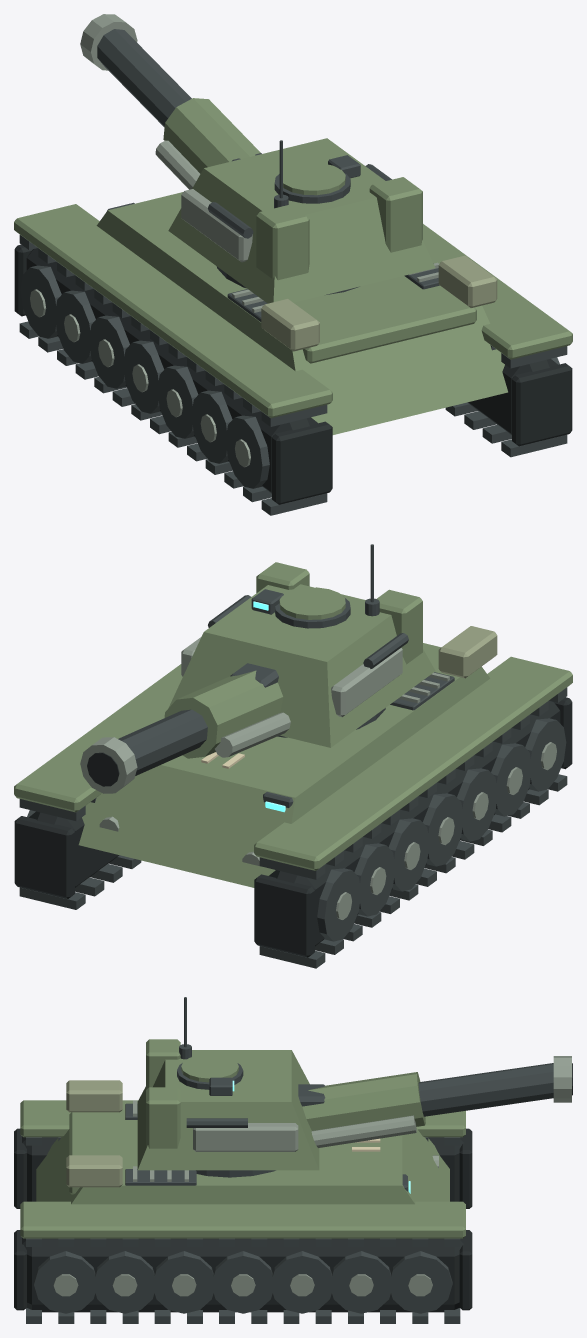
Rendered from tank_arty_mk2.glb.
3 renders of one model, top to bottom at view 1: azimuth 30°, elevation 25°; view 2: azimuth 150°, elevation 25°; view 3: azimuth 270°, elevation 25°, orthographic. The views are drawn at different scales.
Parts seen in each view (by area): view 1: tank_arty_mk2_TankPaint.005, tank_arty_mk2_TankPaint.006, tank_arty_mk2_RunningGear.005, tank_arty_mk2_TankTracks.005, tank_arty_mk2_RunningGear.006, tank_arty_mk2_ArmorEdges.006, tank_arty_mk2_Canvas.004, tank_arty_mk2_ArmorEdges.005; view 2: tank_arty_mk2_TankPaint.005, tank_arty_mk2_TankPaint.006, tank_arty_mk2_RunningGear.005, tank_arty_mk2_TankTracks.005, tank_arty_mk2_RunningGear.006, tank_arty_mk2_ArmorEdges.006, tank_arty_mk2_ArmorEdges.005, tank_arty_mk2_Canvas.004, tank_arty_mk2_TankTracks.006; view 3: tank_arty_mk2_TankPaint.005, tank_arty_mk2_RunningGear.005, tank_arty_mk2_TankPaint.006, tank_arty_mk2_TankTracks.005, tank_arty_mk2_RunningGear.006, tank_arty_mk2_ArmorEdges.006, tank_arty_mk2_Canvas.004, tank_arty_mk2_ArmorEdges.005.
Boxes of the visible parts, bbox=[...] form: tank_arty_mk2_TankPaint.005: bbox=[14, 192, 572, 434]; tank_arty_mk2_TankPaint.006: bbox=[163, 98, 435, 303]; tank_arty_mk2_RunningGear.005: bbox=[19, 202, 567, 515]; tank_arty_mk2_TankTracks.005: bbox=[14, 244, 572, 504]; tank_arty_mk2_RunningGear.006: bbox=[97, 29, 391, 294]; tank_arty_mk2_ArmorEdges.006: bbox=[80, 14, 252, 262]; tank_arty_mk2_Canvas.004: bbox=[261, 255, 497, 351]; tank_arty_mk2_ArmorEdges.005: bbox=[30, 262, 439, 467]; tank_arty_mk2_TankPaint.005: bbox=[14, 643, 572, 887]; tank_arty_mk2_TankPaint.006: bbox=[164, 562, 435, 758]; tank_arty_mk2_RunningGear.005: bbox=[19, 672, 567, 968]; tank_arty_mk2_TankTracks.005: bbox=[14, 697, 572, 957]; tank_arty_mk2_RunningGear.006: bbox=[118, 544, 408, 775]; tank_arty_mk2_ArmorEdges.006: bbox=[80, 637, 402, 793]; tank_arty_mk2_ArmorEdges.005: bbox=[99, 672, 556, 919]; tank_arty_mk2_Canvas.004: bbox=[438, 626, 497, 678]; tank_arty_mk2_TankTracks.006: bbox=[87, 752, 119, 786]; tank_arty_mk2_TankPaint.005: bbox=[20, 1100, 465, 1238]; tank_arty_mk2_RunningGear.005: bbox=[26, 1103, 460, 1323]; tank_arty_mk2_TankPaint.006: bbox=[137, 1039, 425, 1170]; tank_arty_mk2_TankTracks.005: bbox=[14, 1128, 472, 1312]; tank_arty_mk2_RunningGear.006: bbox=[177, 997, 553, 1177]; tank_arty_mk2_ArmorEdges.006: bbox=[193, 1056, 571, 1151]; tank_arty_mk2_Canvas.004: bbox=[66, 1080, 122, 1187]; tank_arty_mk2_ArmorEdges.005: bbox=[53, 1100, 438, 1296].
Size of the model in its own units: 2.51 by 2.19 by 4.55.
